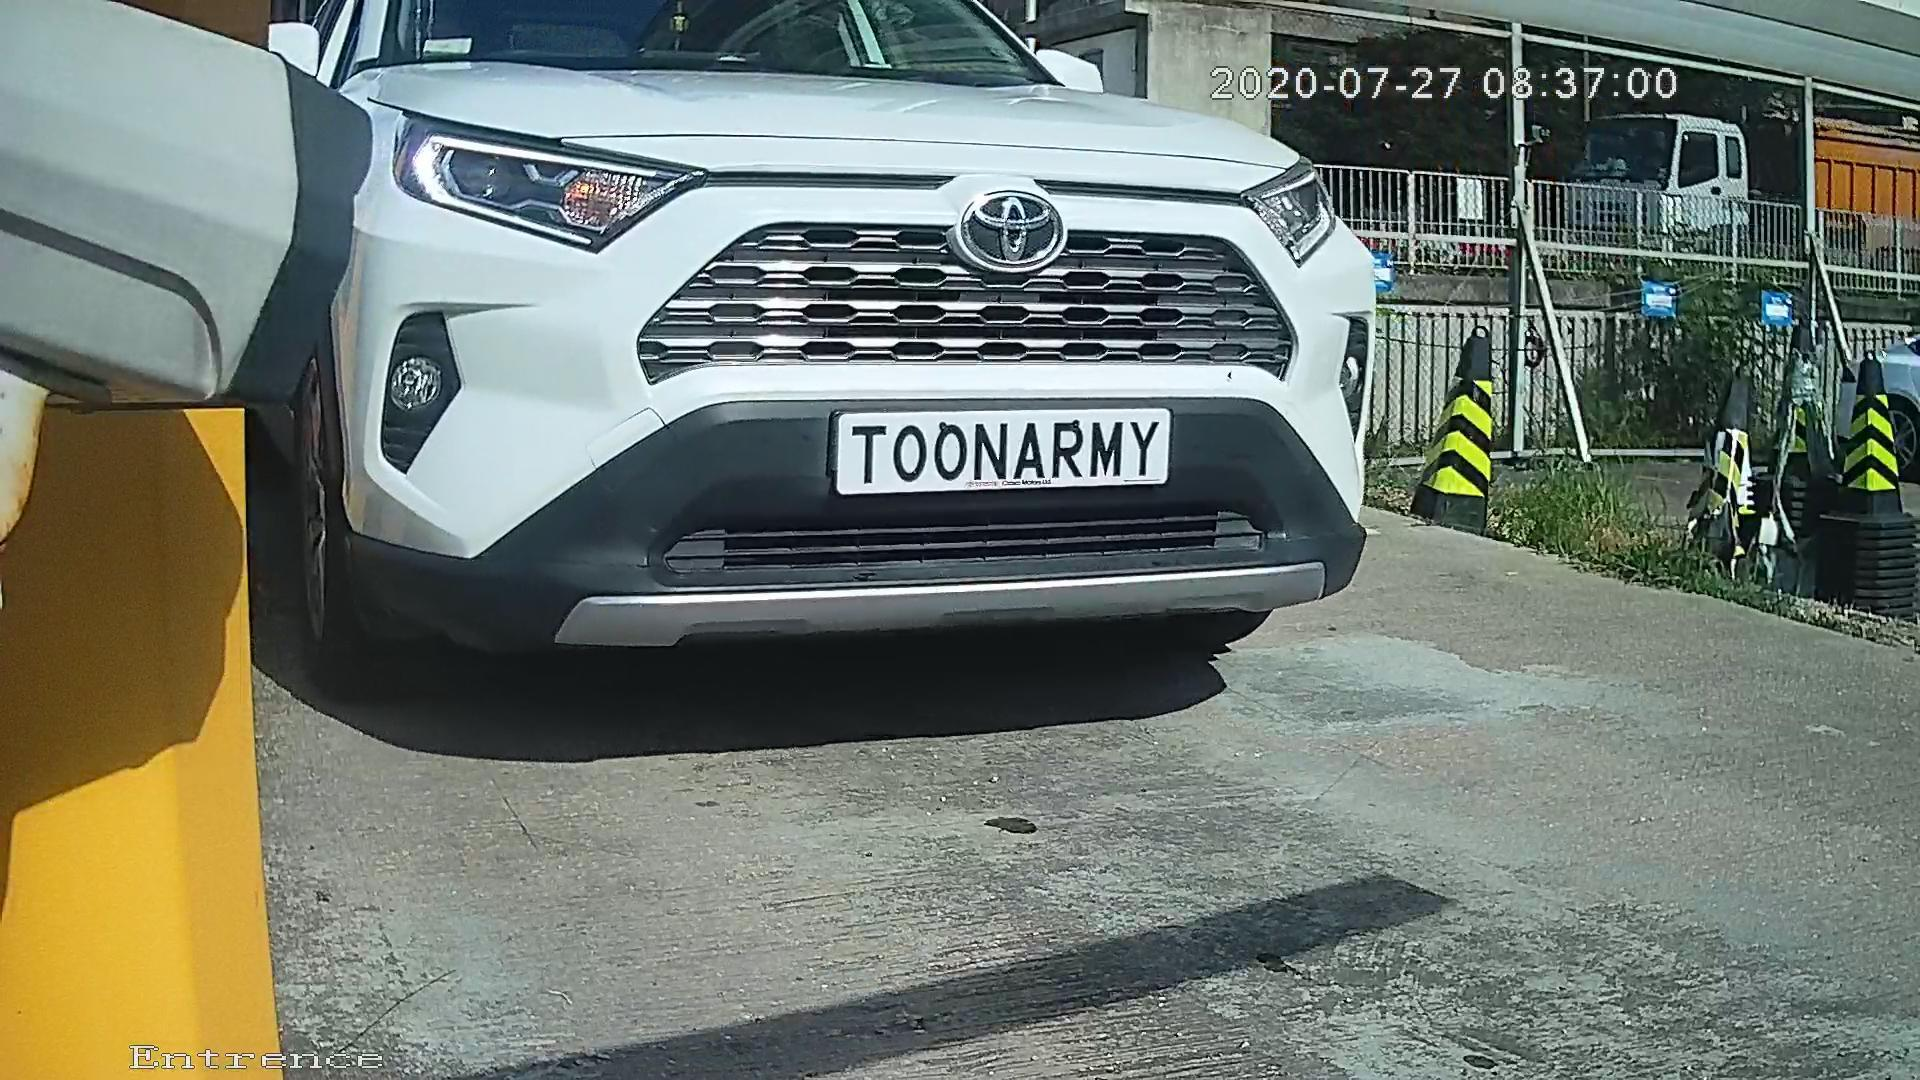Car: (129, 15, 1406, 748)
License Plate: (823, 396, 1166, 512)
